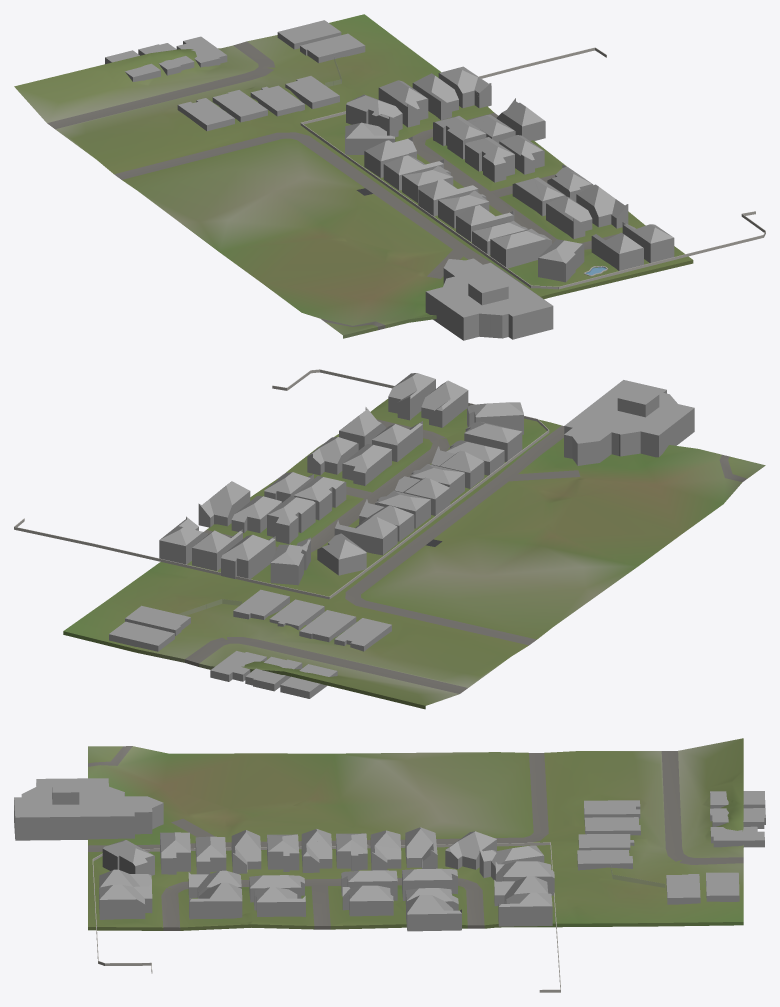
3 renders of one model, top to bottom at view 1: azimuth 30°, elevation 25°; view 2: azimuth 150°, elevation 25°; view 3: azimuth 270°, elevation 25°, orthographic. The views are drawn at different scales.
Visible parts, largest first — view 1: D--4-2.L0:utd:matte, D--4-2.L0:utd:matte:flat; view 2: D--4-2.L0:utd:matte, D--4-2.L0:utd:matte:flat; view 3: D--4-2.L0:utd:matte, D--4-2.L0:utd:matte:flat.
Boxes of the visible parts, x1=… form: D--4-2.L0:utd:matte: x1=14, y1=14, x2=693, y2=338; D--4-2.L0:utd:matte:flat: x1=105, y1=20, x2=765, y2=340; D--4-2.L0:utd:matte: x1=63, y1=399, x2=765, y2=709; D--4-2.L0:utd:matte:flat: x1=14, y1=369, x2=694, y2=698; D--4-2.L0:utd:matte: x1=88, y1=738, x2=743, y2=930; D--4-2.L0:utd:matte:flat: x1=14, y1=778, x2=765, y2=992.
Bounding box in the file's own units: 220 × 17.16 × 294.
